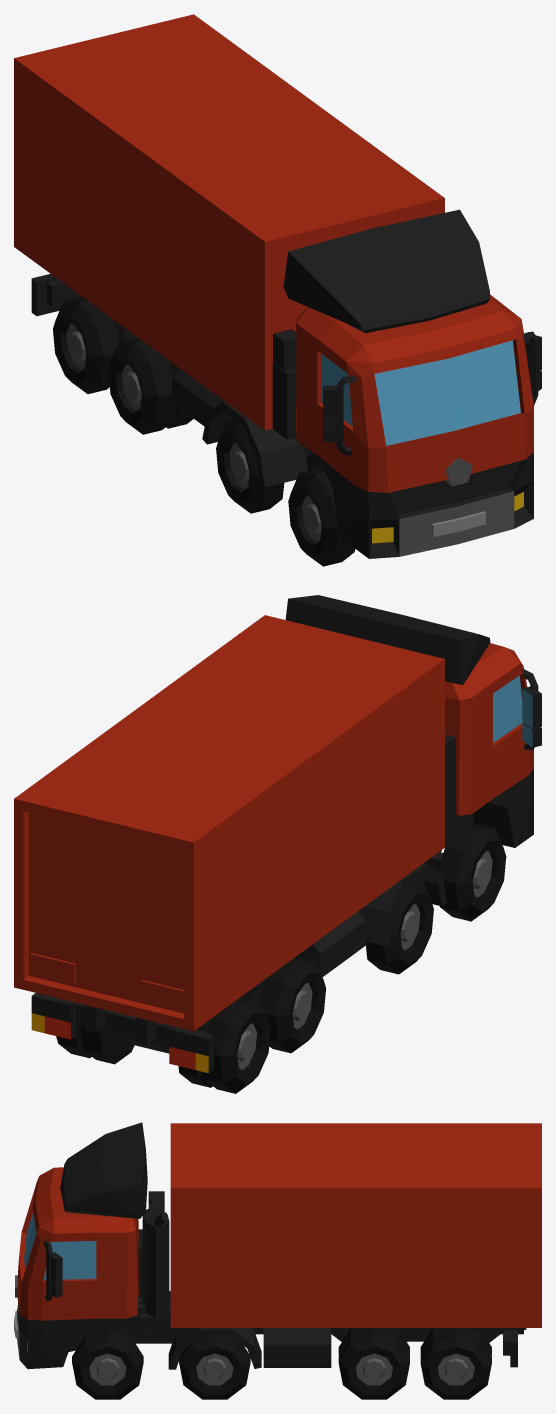
The model's file is car-5.fbx.
The picture shows the model from 3 angles, top to bottom: view 1: azimuth 30°, elevation 25°; view 2: azimuth 150°, elevation 25°; view 3: azimuth 270°, elevation 25°; orthographic projection. The views are drawn at different scales.
Parts seen in each view (by area): view 1: Truck 1 Cargo, Truck 1, WheelT1-7, WheelT1-8, WheelT1-5, WheelT1-6; view 2: Truck 1 Cargo, Truck 1, WheelT1-8, WheelT1-5, WheelT1-7, WheelT1-6, WheelT1-4; view 3: Truck 1 Cargo, Truck 1, WheelT1-3, WheelT1-4, WheelT1-1, WheelT1-2.
Boxes of the visible parts, <box> form: Truck 1 Cargo: <box>14,14,444,430</box>; Truck 1: <box>31,209,541,558</box>; WheelT1-7: <box>108,337,193,434</box>; WheelT1-8: <box>53,296,136,393</box>; WheelT1-5: <box>288,468,355,566</box>; WheelT1-6: <box>216,419,284,513</box>; Truck 1 Cargo: <box>14,615,444,1031</box>; Truck 1: <box>31,595,541,1073</box>; WheelT1-8: <box>178,996,270,1093</box>; WheelT1-5: <box>438,823,506,921</box>; WheelT1-7: <box>242,955,325,1053</box>; WheelT1-6: <box>366,879,433,974</box>; WheelT1-4: <box>56,1025,134,1064</box>; Truck 1 Cargo: <box>170,1123,541,1327</box>; Truck 1: <box>14,1122,526,1369</box>; WheelT1-3: <box>338,1328,409,1399</box>; WheelT1-4: <box>420,1330,491,1399</box>; WheelT1-1: <box>72,1329,143,1399</box>; WheelT1-2: <box>179,1335,250,1399</box>.
Bounding box in the file's own units: 584 × 749 × 1647.
